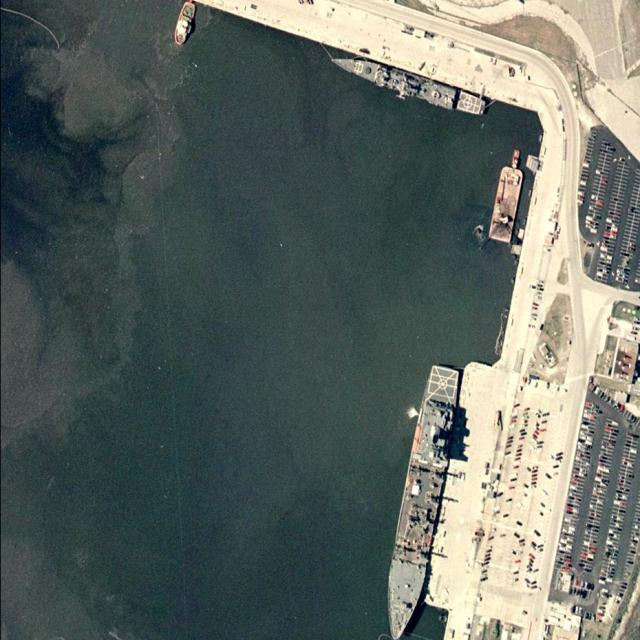Commander: (373, 362, 470, 639)
Frigate: (328, 52, 486, 115)
Hovercraft: (171, 1, 198, 47)
